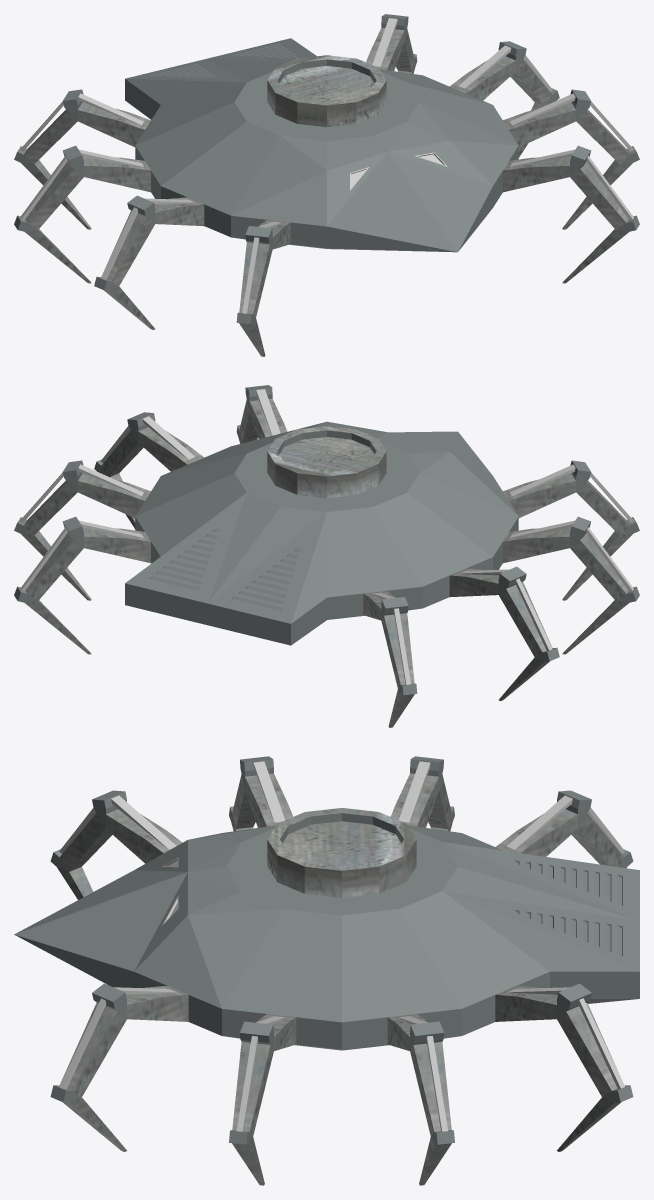
The model's file is 蜘蛛V3[载具]细分版(纯色版).fbx.
3 renders of one model, top to bottom at view 1: azimuth 30°, elevation 25°; view 2: azimuth 150°, elevation 25°; view 3: azimuth 270°, elevation 25°, orthographic. The views are drawn at different scales.
Visible parts, largest first — view 1: Group2, Group3, Group10, Group4, Group9, Group5, Group7, Group6, Group8; view 2: Group2, Group5, Group8, Group6, Group7, Group3, Group9, Group4, Group10; view 3: Group2, Group8, Group10, Group6, Group9, Group7, Group4, Group5, Group3.
Boxes of the visible parts, <box> form: Group2: <box>125,38,518,252</box>; Group3: <box>14,145,150,283</box>; Group10: <box>503,145,639,283</box>; Group4: <box>14,89,150,229</box>; Group9: <box>503,89,639,229</box>; Group5: <box>94,195,204,329</box>; Group7: <box>450,41,559,157</box>; Group6: <box>236,220,290,356</box>; Group8: <box>366,14,417,73</box>; Group2: <box>125,421,518,645</box>; Group5: <box>503,516,639,654</box>; Group8: <box>14,516,150,654</box>; Group6: <box>503,460,639,600</box>; Group7: <box>14,460,150,600</box>; Group3: <box>449,566,559,700</box>; Group9: <box>94,412,203,528</box>; Group4: <box>363,591,417,727</box>; Group10: <box>236,385,287,443</box>; Group2: <box>14,808,639,1050</box>; Group8: <box>495,983,633,1151</box>; Group10: <box>50,983,188,1151</box>; Group6: <box>50,790,182,899</box>; Group9: <box>229,1014,296,1185</box>; Group7: <box>387,1014,454,1185</box>; Group4: <box>495,790,633,868</box>; Group5: <box>229,756,293,831</box>; Group3: <box>390,756,454,831</box>.
Bounding box in the file's own units: 13.06 × 4.04 × 10.43.
